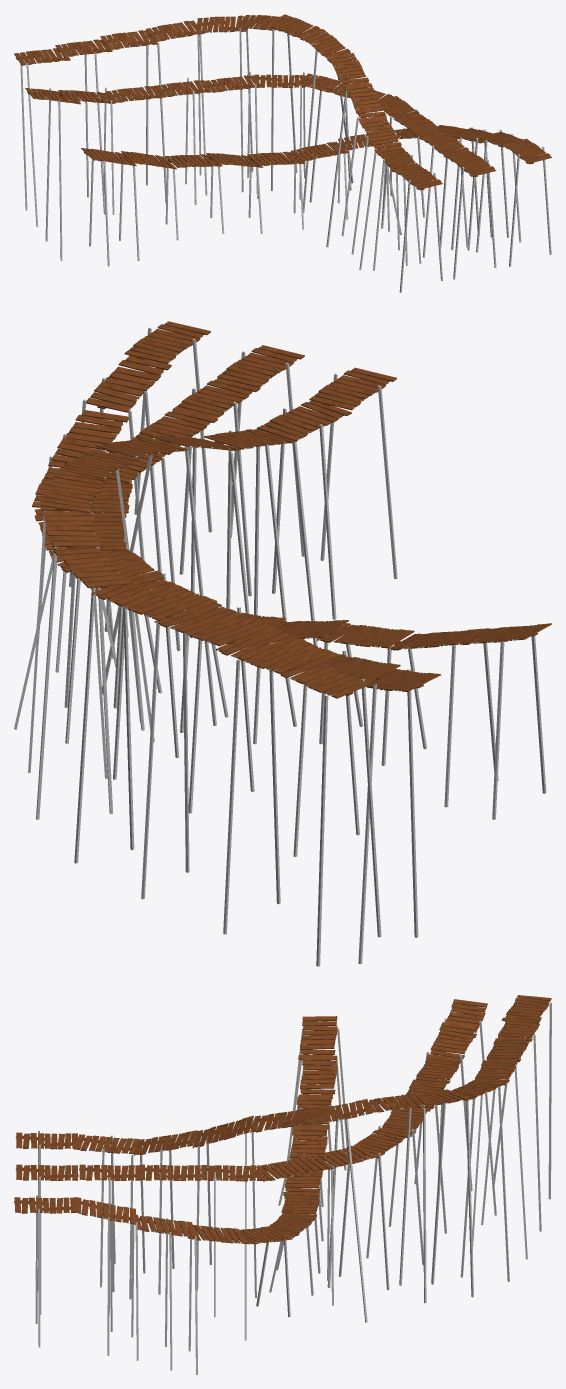
File: wooden walkways.fbx
3 renders of one model, top to bottom at view 1: azimuth 30°, elevation 25°; view 2: azimuth 150°, elevation 25°; view 3: azimuth 270°, elevation 25°, orthographic. The views are drawn at different scales.
Parts seen in each view (by area): view 1: Full_027, Full_026, Full_028, Cube_009, Cube_018, Full_034, Full_029, Full_033, Full_032, Cube_025, Cube_019, Full_030 (+50 smaller); view 2: Full_013, Cube_018, Cube_019, Cube_009, Full_014, Full_012, Full_024, Full_009, Full_032, Full_025, Full_007, Full_030 (+44 smaller); view 3: Full_021, Full_023, Full_010, Cube_025, Full_020, Full_028, Full_007, Full_008, Full_024, Cube_019, Full_003, Full_013 (+47 smaller).
Part boxes in pixels (x1,y1,x2,y2): Full_027: [345, 83, 385, 121]; Full_026: [359, 117, 401, 152]; Full_028: [327, 53, 369, 87]; Cube_009: [45, 88, 62, 260]; Cube_018: [20, 52, 38, 227]; Full_034: [100, 30, 157, 50]; Full_029: [300, 29, 350, 61]; Full_033: [146, 20, 203, 42]; Full_032: [196, 15, 246, 33]; Cube_025: [270, 17, 297, 190]; Cube_019: [84, 52, 105, 214]; Full_030: [266, 14, 321, 40]; Full_013: [86, 355, 171, 412]; Cube_018: [316, 678, 381, 966]; Cube_019: [223, 642, 280, 934]; Cube_009: [358, 669, 418, 964]; Full_014: [51, 410, 128, 463]; Full_012: [124, 321, 210, 363]; Full_024: [309, 367, 396, 410]; Full_009: [217, 345, 304, 387]; Full_032: [52, 546, 131, 588]; Full_025: [257, 400, 351, 441]; Full_007: [172, 378, 260, 419]; Full_030: [41, 470, 107, 512]; Full_021: [298, 1055, 337, 1098]; Full_023: [298, 1016, 337, 1060]; Full_010: [426, 1022, 475, 1059]; Cube_025: [399, 1104, 426, 1303]; Full_020: [290, 1126, 327, 1161]; Full_028: [250, 1107, 313, 1132]; Full_007: [79, 1164, 141, 1180]; Full_008: [412, 1057, 461, 1085]; Full_024: [15, 1132, 78, 1149]; Cube_019: [481, 1031, 541, 1231]; Full_003: [305, 1144, 375, 1170]; Full_013: [76, 1197, 136, 1224].
Bounding box in the file's own units: 64.18 × 34.18 × 70.11.
